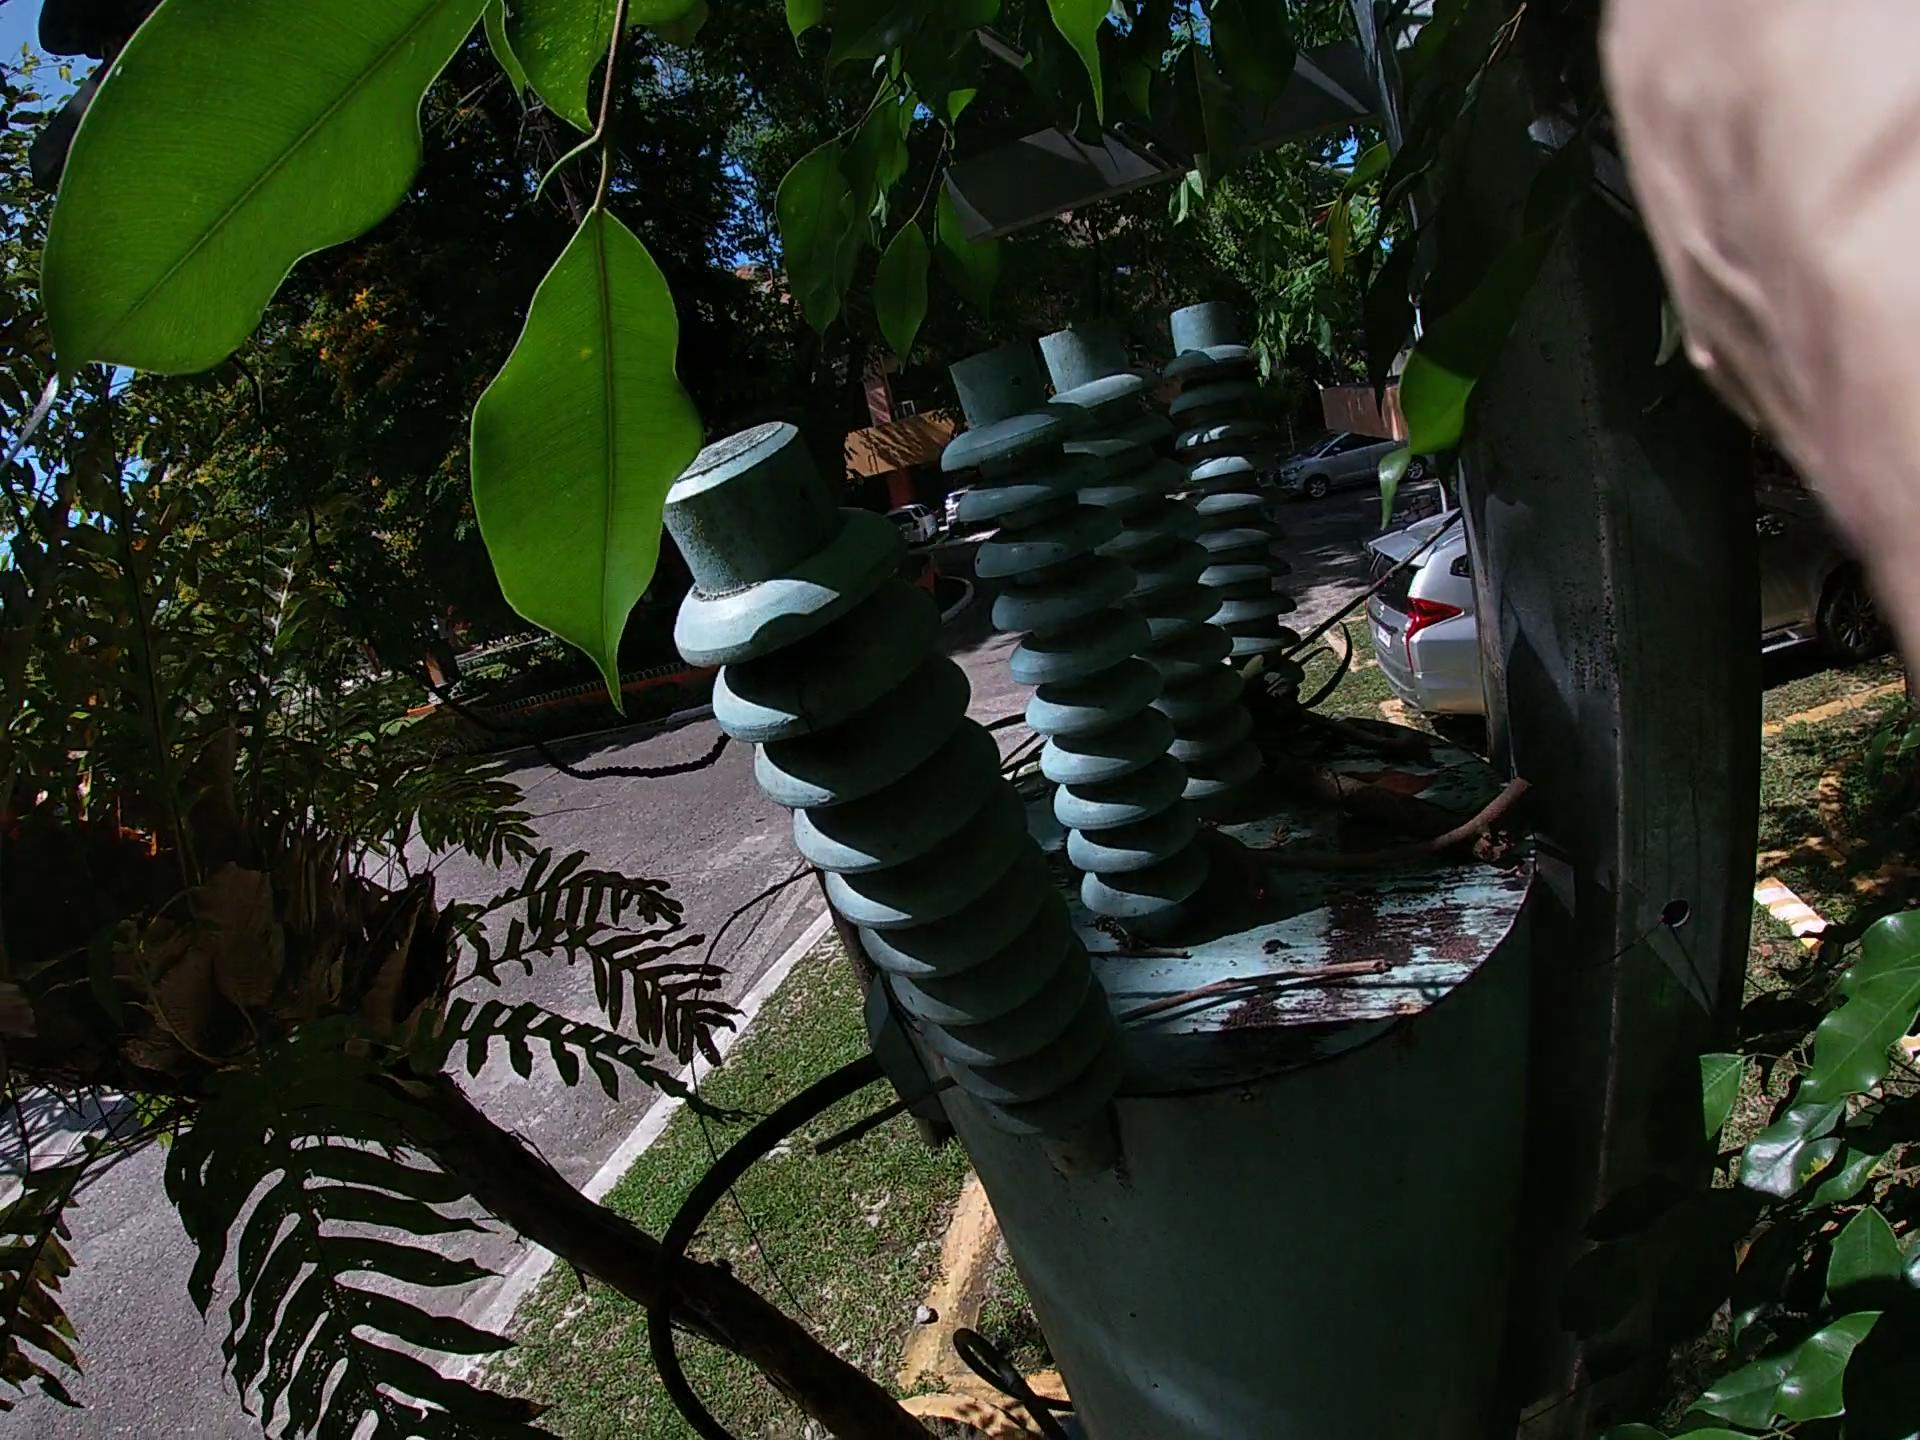leaf: (1342, 756, 1459, 895)
mahogany fruit: (1274, 731, 1426, 830), (1256, 712, 1270, 725)
tree branch: (750, 495, 1465, 1213), (831, 902, 1435, 1147), (1237, 697, 1568, 1006), (1170, 771, 1538, 900)
